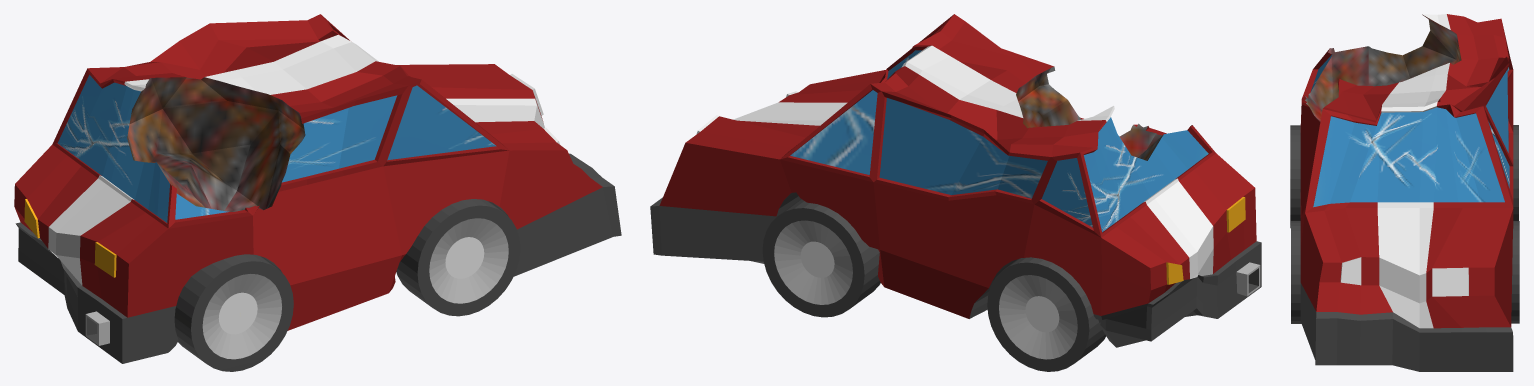
Rendered from player_var2.fbx.
3 views of the same model, side by side, from view 1: azimuth 30°, elevation 25°; view 2: azimuth 150°, elevation 25°; view 3: azimuth 270°, elevation 25° (orthographic). The views are drawn at different scales.
Parts seen in each view (by area): view 1: Cube.015, Cylinder.059, Cylinder.060; view 2: Cube.015, Cylinder.058, Cylinder.061; view 3: Cube.015, Cylinder.059, Cylinder.060, Cylinder.058, Cylinder.061.
Part boxes in pixels (box(x1,y1,x2,y2)): Cube.015: box(14, 14, 621, 363); Cylinder.059: box(174, 254, 293, 371); Cylinder.060: box(396, 199, 520, 316); Cube.015: box(650, 14, 1261, 347); Cylinder.058: box(762, 199, 880, 317); Cylinder.061: box(987, 257, 1106, 371); Cube.015: box(1300, 14, 1513, 371); Cylinder.059: box(1290, 125, 1300, 228); Cylinder.060: box(1291, 221, 1301, 323); Cylinder.058: box(1511, 221, 1519, 323); Cylinder.061: box(1513, 125, 1518, 220).
Bounding box in the file's own units: 206 × 88.75 × 92.11.
1 material, 1 textured.
